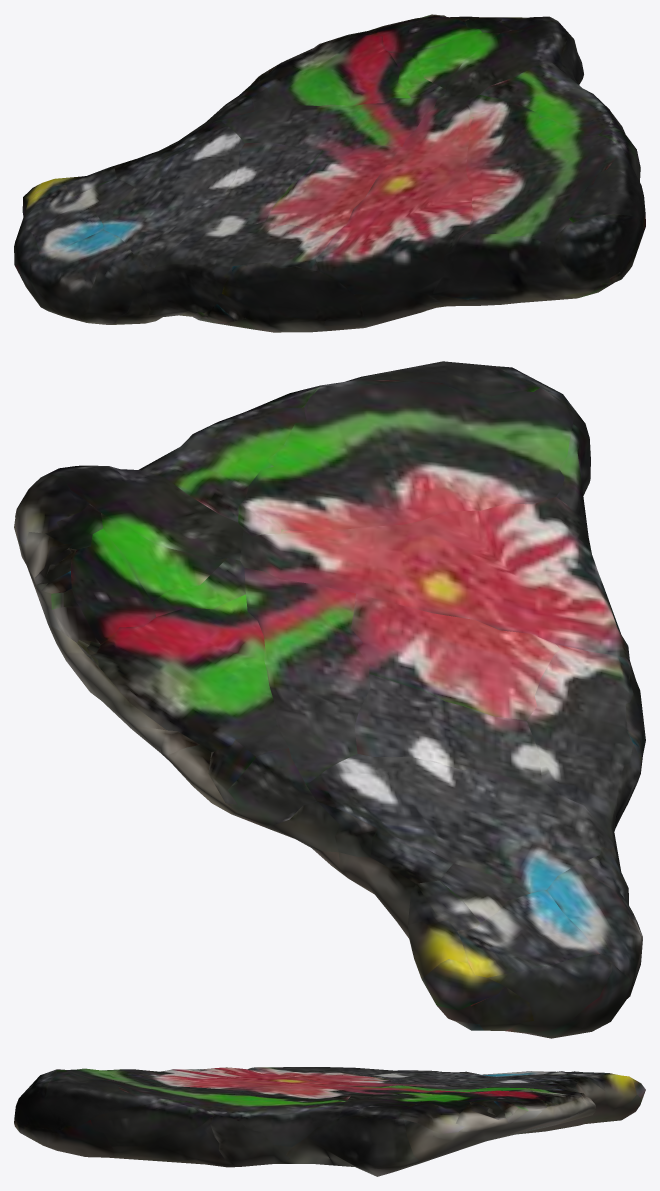
File: hall.glb
3 views of the same model, one above another, from view 1: azimuth 30°, elevation 25°; view 2: azimuth 150°, elevation 25°; view 3: azimuth 270°, elevation 25° (orthographic). The views are drawn at different scales.
Bounding box in the file's own units: 0.5265 × 0.2414 × 0.6222.
1 material, 1 textured.
